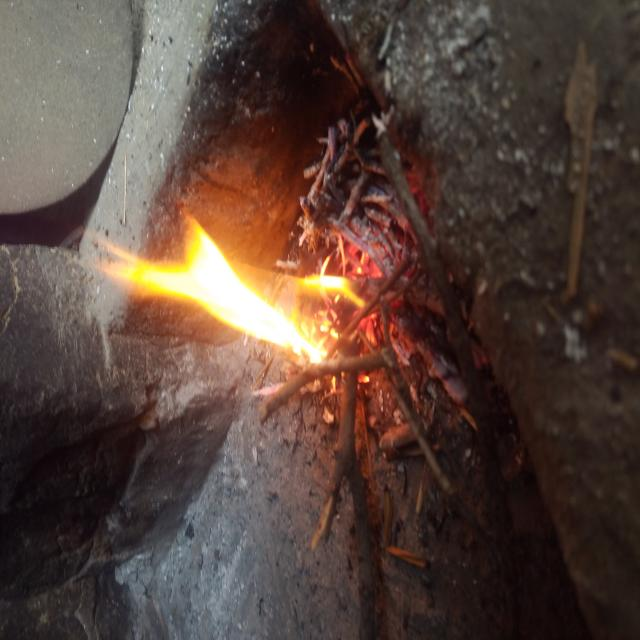Fire: (203, 126, 317, 459), (258, 395, 272, 466)
